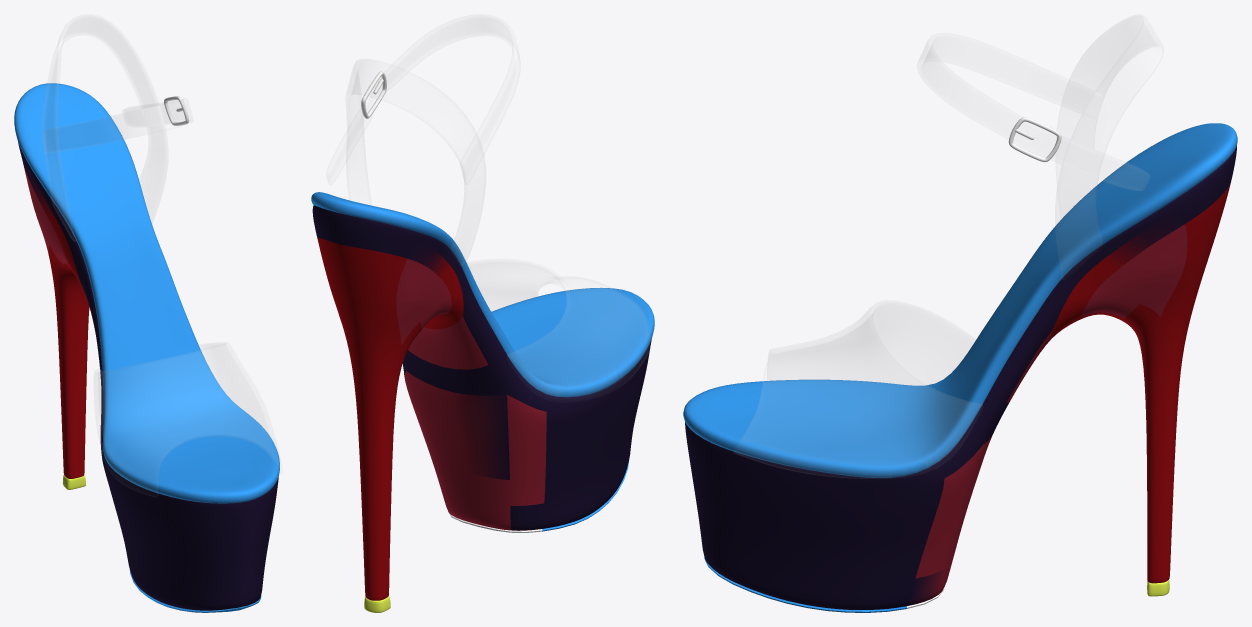
File: stripper_heels.fbx
3 views of the same model, side by side, from view 1: azimuth 30°, elevation 25°; view 2: azimuth 150°, elevation 25°; view 3: azimuth 270°, elevation 25° (orthographic). The views are drawn at different scales.
Visible parts, largest first — view 1: Shank; view 2: Shank; view 3: Shank.
Boxes of the visible parts, <box> form: Shank: <box>14,36,279,612</box>; Shank: <box>311,45,654,612</box>; Shank: <box>683,19,1237,612</box>.
Size of the model in its own units: 7.22 by 21.13 by 18.45.
